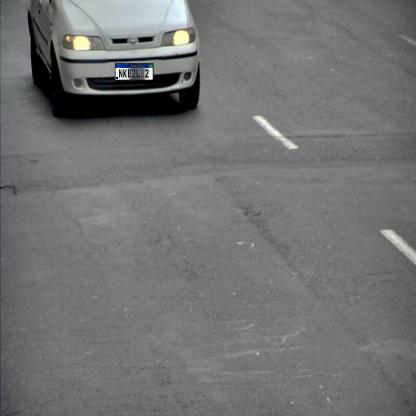PlacaM: (115, 63, 153, 81)
